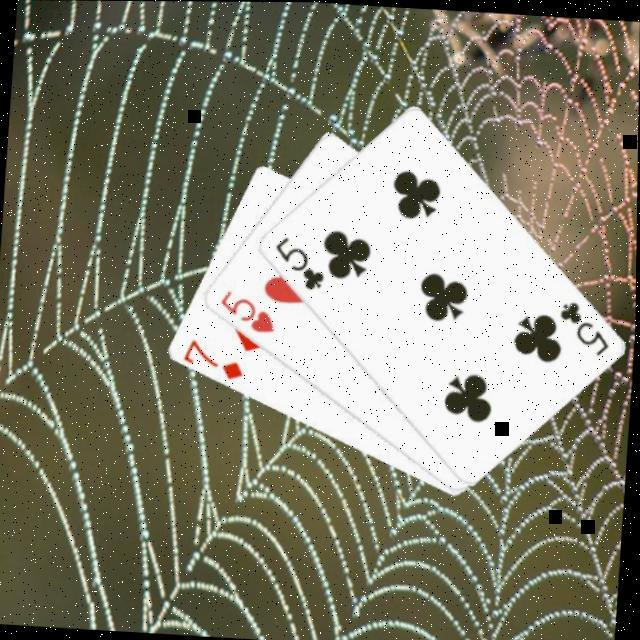5C: (554, 297, 616, 360), (269, 234, 331, 295)
5H: (216, 288, 282, 338)
7D: (182, 337, 250, 384)
